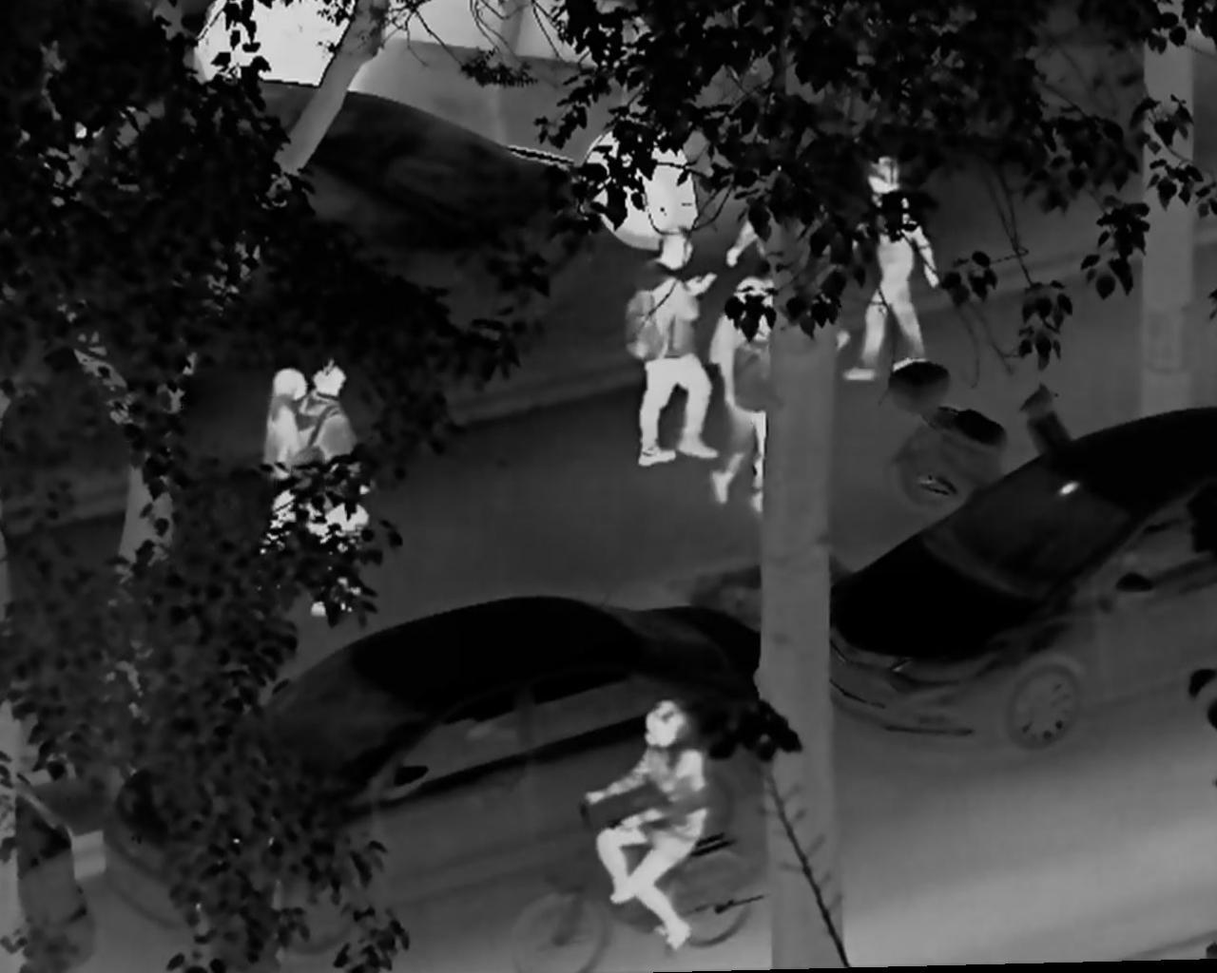person: (576, 696, 710, 962), (622, 229, 727, 471), (284, 353, 375, 625), (729, 163, 851, 365), (842, 150, 941, 380), (709, 253, 783, 526), (239, 369, 323, 582)
